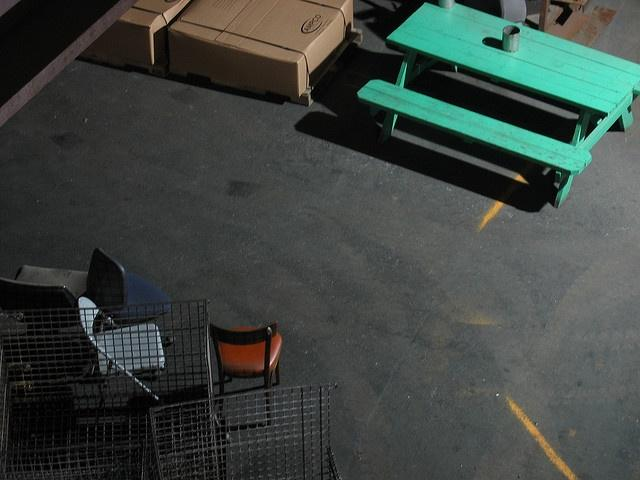Kursi: (207, 321, 283, 426), (87, 246, 170, 322)
